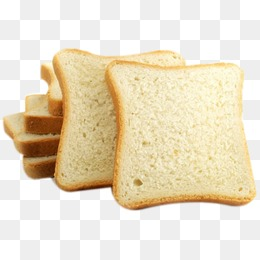slice of bread: (2, 47, 189, 195), (104, 53, 260, 209)
